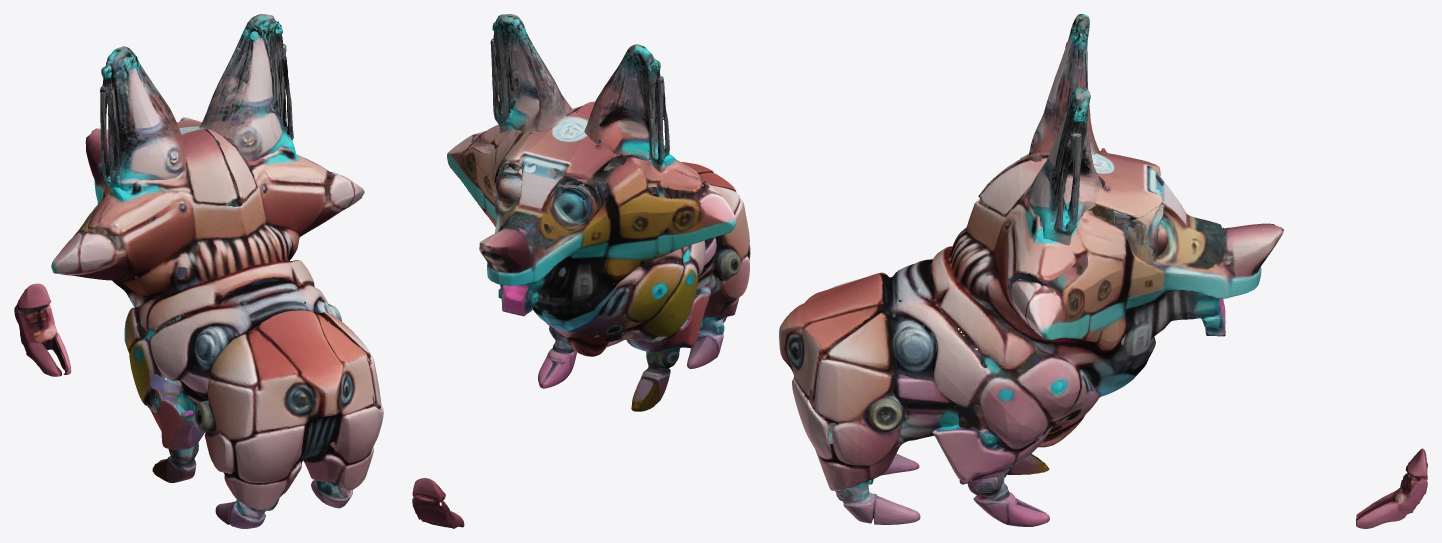
File: typical_creature_robot_crab.glb
3 views of the same model, side by side, from view 1: azimuth 30°, elevation 25°; view 2: azimuth 150°, elevation 25°; view 3: azimuth 270°, elevation 25° (orthographic). The views are drawn at different scales.
Parts seen in each view (by area): view 1: part_4, part_5, part_2, part_0, part_1, part_7, part_9; view 2: part_4, part_2, part_5, part_1, part_3, part_0, part_8, part_7, part_6; view 3: part_4, part_5, part_2, part_0, part_8, part_9, part_6.
Boxes of the visible parts, x1,y1,x2,y2 form: part_4: [51, 117, 383, 510]; part_5: [199, 14, 295, 161]; part_2: [100, 46, 186, 195]; part_0: [14, 283, 71, 376]; part_1: [146, 388, 204, 482]; part_7: [215, 499, 266, 528]; part_9: [311, 480, 352, 508]; part_4: [447, 101, 750, 356]; part_2: [584, 44, 669, 172]; part_5: [490, 14, 571, 133]; part_1: [626, 286, 710, 411]; part_3: [550, 173, 606, 223]; part_0: [412, 478, 464, 528]; part_8: [538, 325, 576, 388]; part_7: [687, 317, 726, 368]; part_6: [493, 161, 556, 203]; part_4: [779, 148, 1283, 491]; part_5: [1027, 87, 1102, 245]; part_2: [1029, 14, 1099, 160]; part_0: [1356, 448, 1427, 528]; part_8: [959, 475, 1049, 526]; part_9: [835, 485, 920, 524]; part_6: [1113, 204, 1167, 264].
Size of the model in its own units: 0.5958 by 0.8034 by 1.
10 materials, 10 textured.
